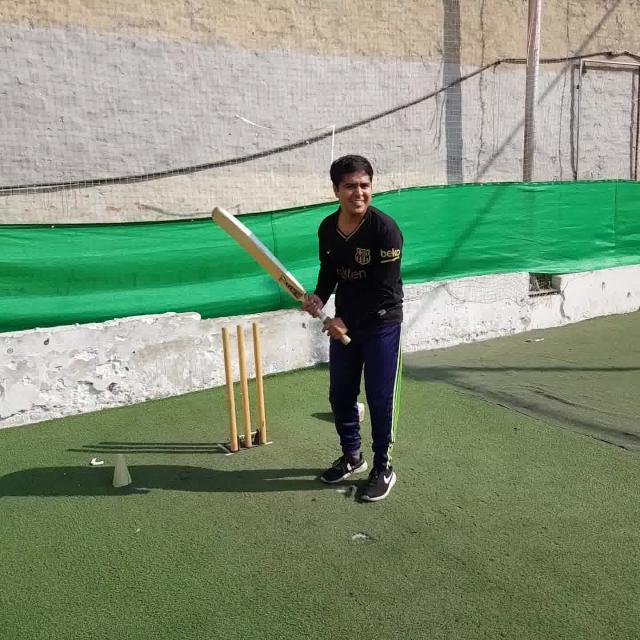bat: (210, 206, 352, 343)
